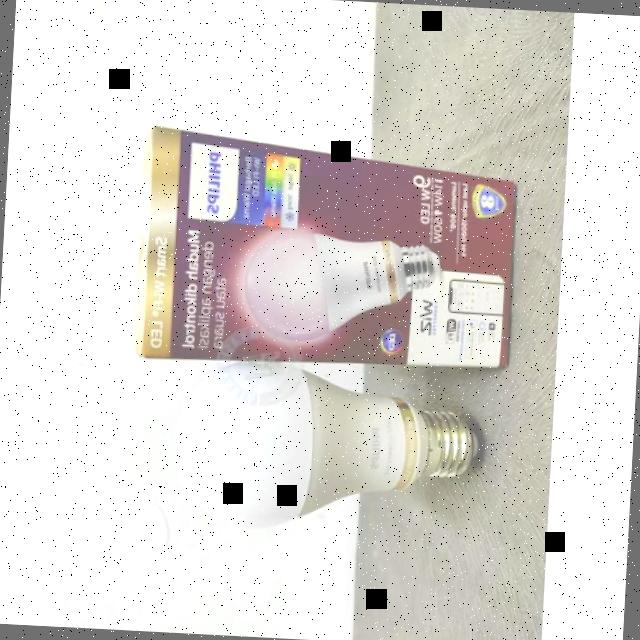light_bulb: (167, 350, 500, 548)
